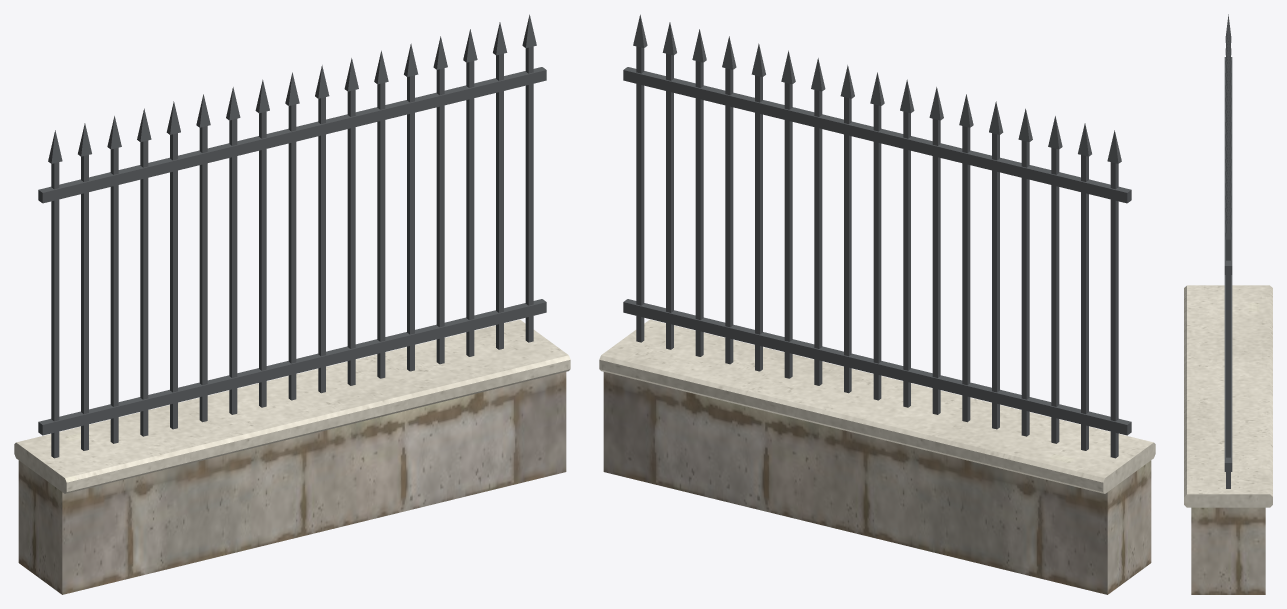
Rendered from fence.glb.
3 views of the same model, side by side, from view 1: azimuth 30°, elevation 25°; view 2: azimuth 150°, elevation 25°; view 3: azimuth 270°, elevation 25° (orthographic). The views are drawn at different scales.
Parts seen in each view (by area): view 1: fence_iron, fence_stone2, fence_trim; view 2: fence_iron, fence_stone2, fence_trim; view 3: fence_trim, fence_stone2, fence_iron.
Boxes of the visible parts, bbox=[...] form: fence_iron: bbox=[38, 14, 546, 458]; fence_stone2: bbox=[18, 372, 566, 594]; fence_trim: bbox=[14, 319, 570, 493]; fence_iron: bbox=[623, 14, 1131, 458]; fence_stone2: bbox=[603, 372, 1151, 594]; fence_trim: bbox=[599, 319, 1155, 493]; fence_trim: bbox=[1184, 285, 1272, 507]; fence_stone2: bbox=[1191, 507, 1265, 594]; fence_iron: bbox=[1224, 14, 1232, 488].
Size of the model in its own units: 2 by 1.69 by 0.36.
Materials: 3 (2 with a texture image).
